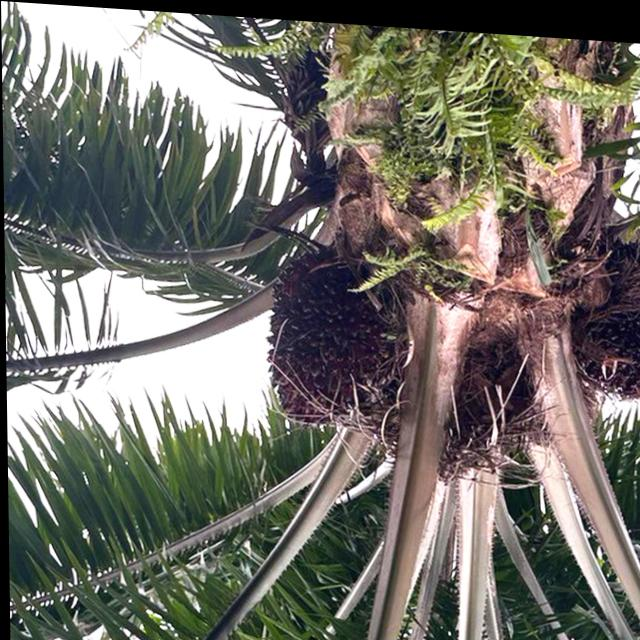ripe: (264, 253, 414, 435)
